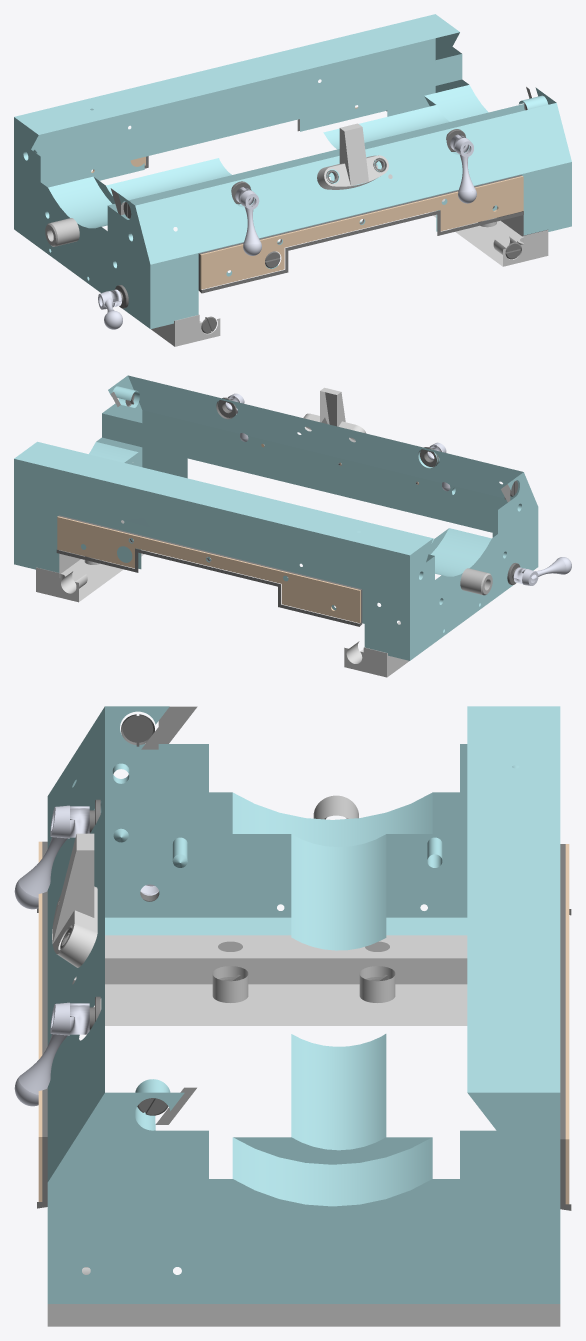
The model's file is TableyComponent.fbx.
3 views of the same model, one above another, from view 1: azimuth 30°, elevation 25°; view 2: azimuth 150°, elevation 25°; view 3: azimuth 270°, elevation 25° (orthographic). The views are drawn at different scales.
Parts seen in each view (by area): view 1: Body2.068; view 2: Body2.068; view 3: Body2.068.
Boxes of the visible parts, x1,y1,x2,y2 form: Body2.068: (14, 14, 571, 346); Body2.068: (14, 375, 571, 677); Body2.068: (14, 706, 571, 1326).
Size of the model in its own units: 55.83 by 19.27 by 31.03.
